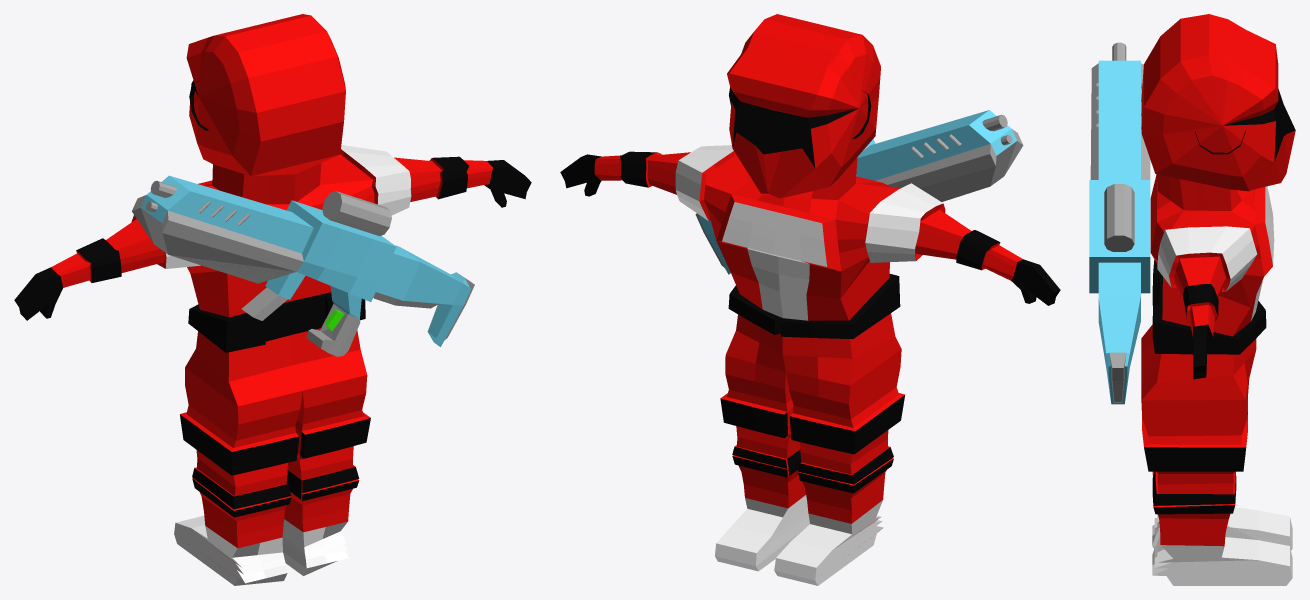
File: Space Defender Final.fbx
3 views of the same model, side by side, from view 1: azimuth 30°, elevation 25°; view 2: azimuth 150°, elevation 25°; view 3: azimuth 270°, elevation 25° (orthographic). The views are drawn at different scales.
Visible parts, largest first — view 1: Space Defender; view 2: Space Defender; view 3: Space Defender.
Boxes of the visible parts, left/top/right/bottom form: Space Defender: left=14, top=14, right=531, bottom=585; Space Defender: left=560, top=14, right=1060, bottom=585; Space Defender: left=1089, top=14, right=1295, bottom=585.
Size of the model in its own units: 306 by 306 by 109.
